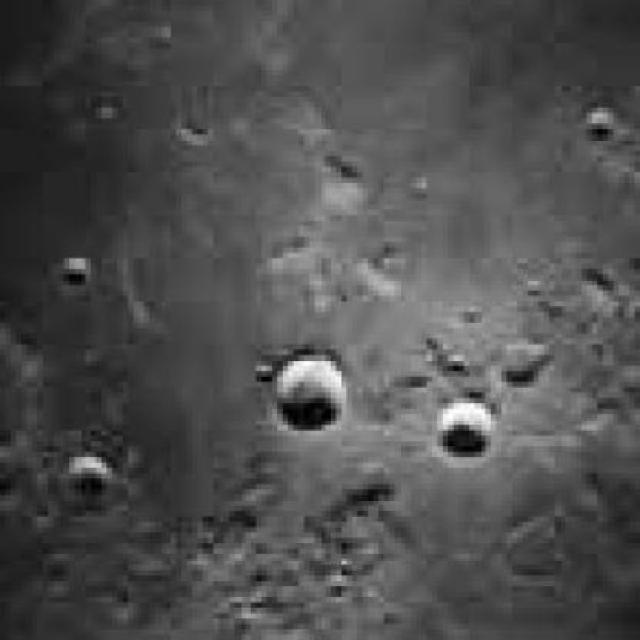crater: (275, 356, 348, 435), (435, 403, 491, 463), (66, 460, 112, 498), (57, 252, 100, 286), (252, 363, 278, 385)
